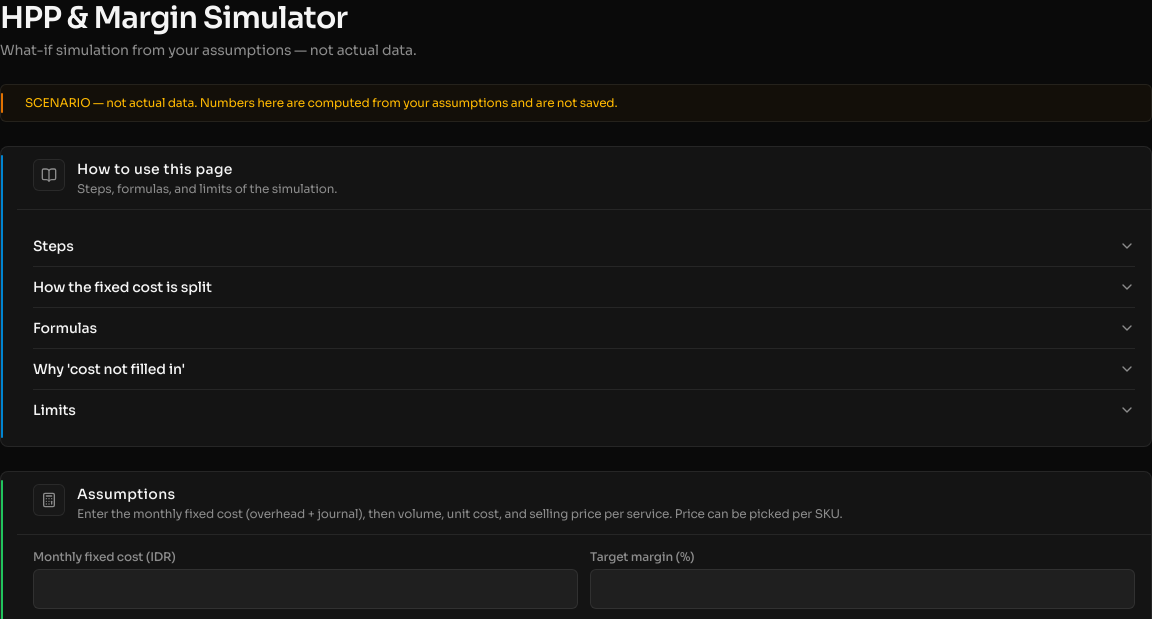
Test: AdminHppSimulator › renders a collapsible usage guide
Expected: the element with test id "hpp-sim-guide" is shown, [0,146,1151,446]
Click the button "Steps": (53, 246) [33,226,1135,266]
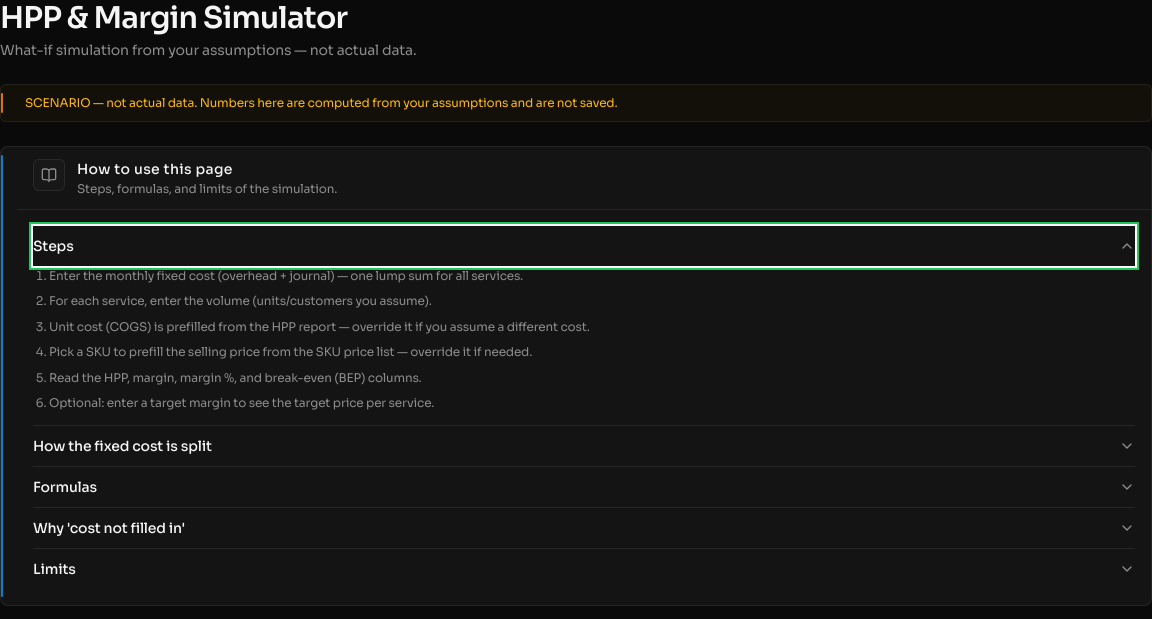
Expected: the list item "Enter the monthly fixed cost (overhead + journal) — one lump sum for all services." is shown, [49,268,523,282]
Click the button "Limits": (54, 568) [33,548,1135,588]
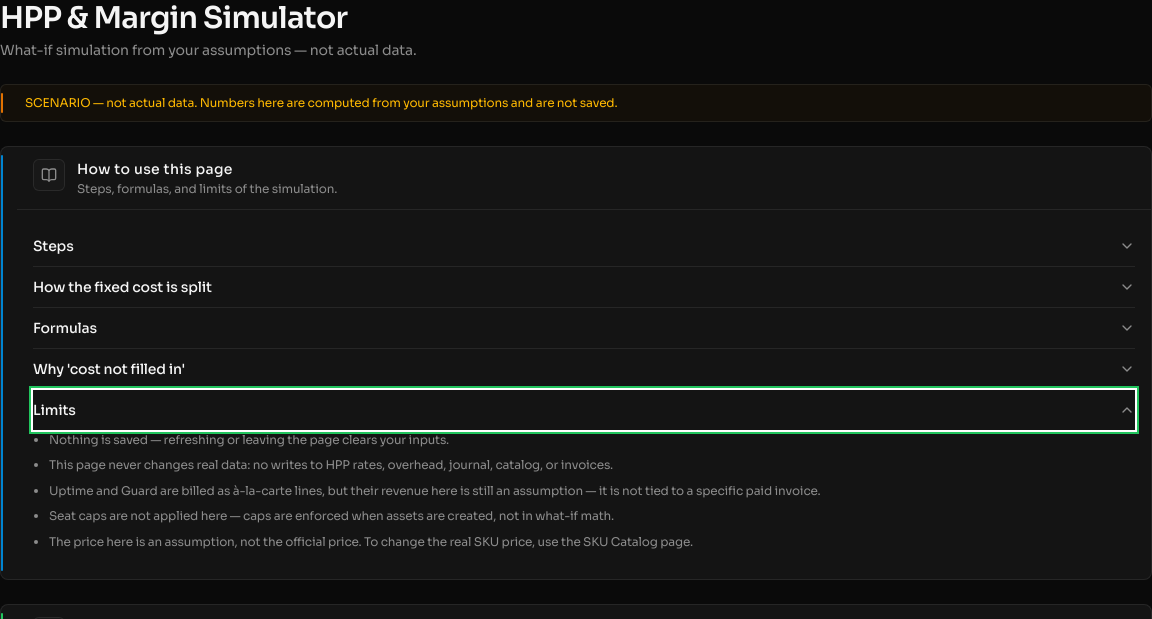
Expected: the list item "Nothing is saved — refreshing or leaving the page clears your inputs." is shown, [49,432,449,446]
